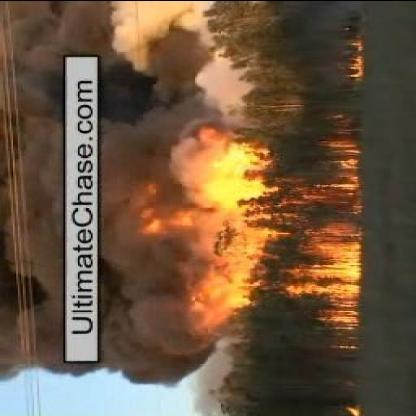-: (102, 44, 178, 382), (3, 84, 64, 370)
foggia-v2-map80-epoch100 - v1 4323: (324, 256, 362, 297)
